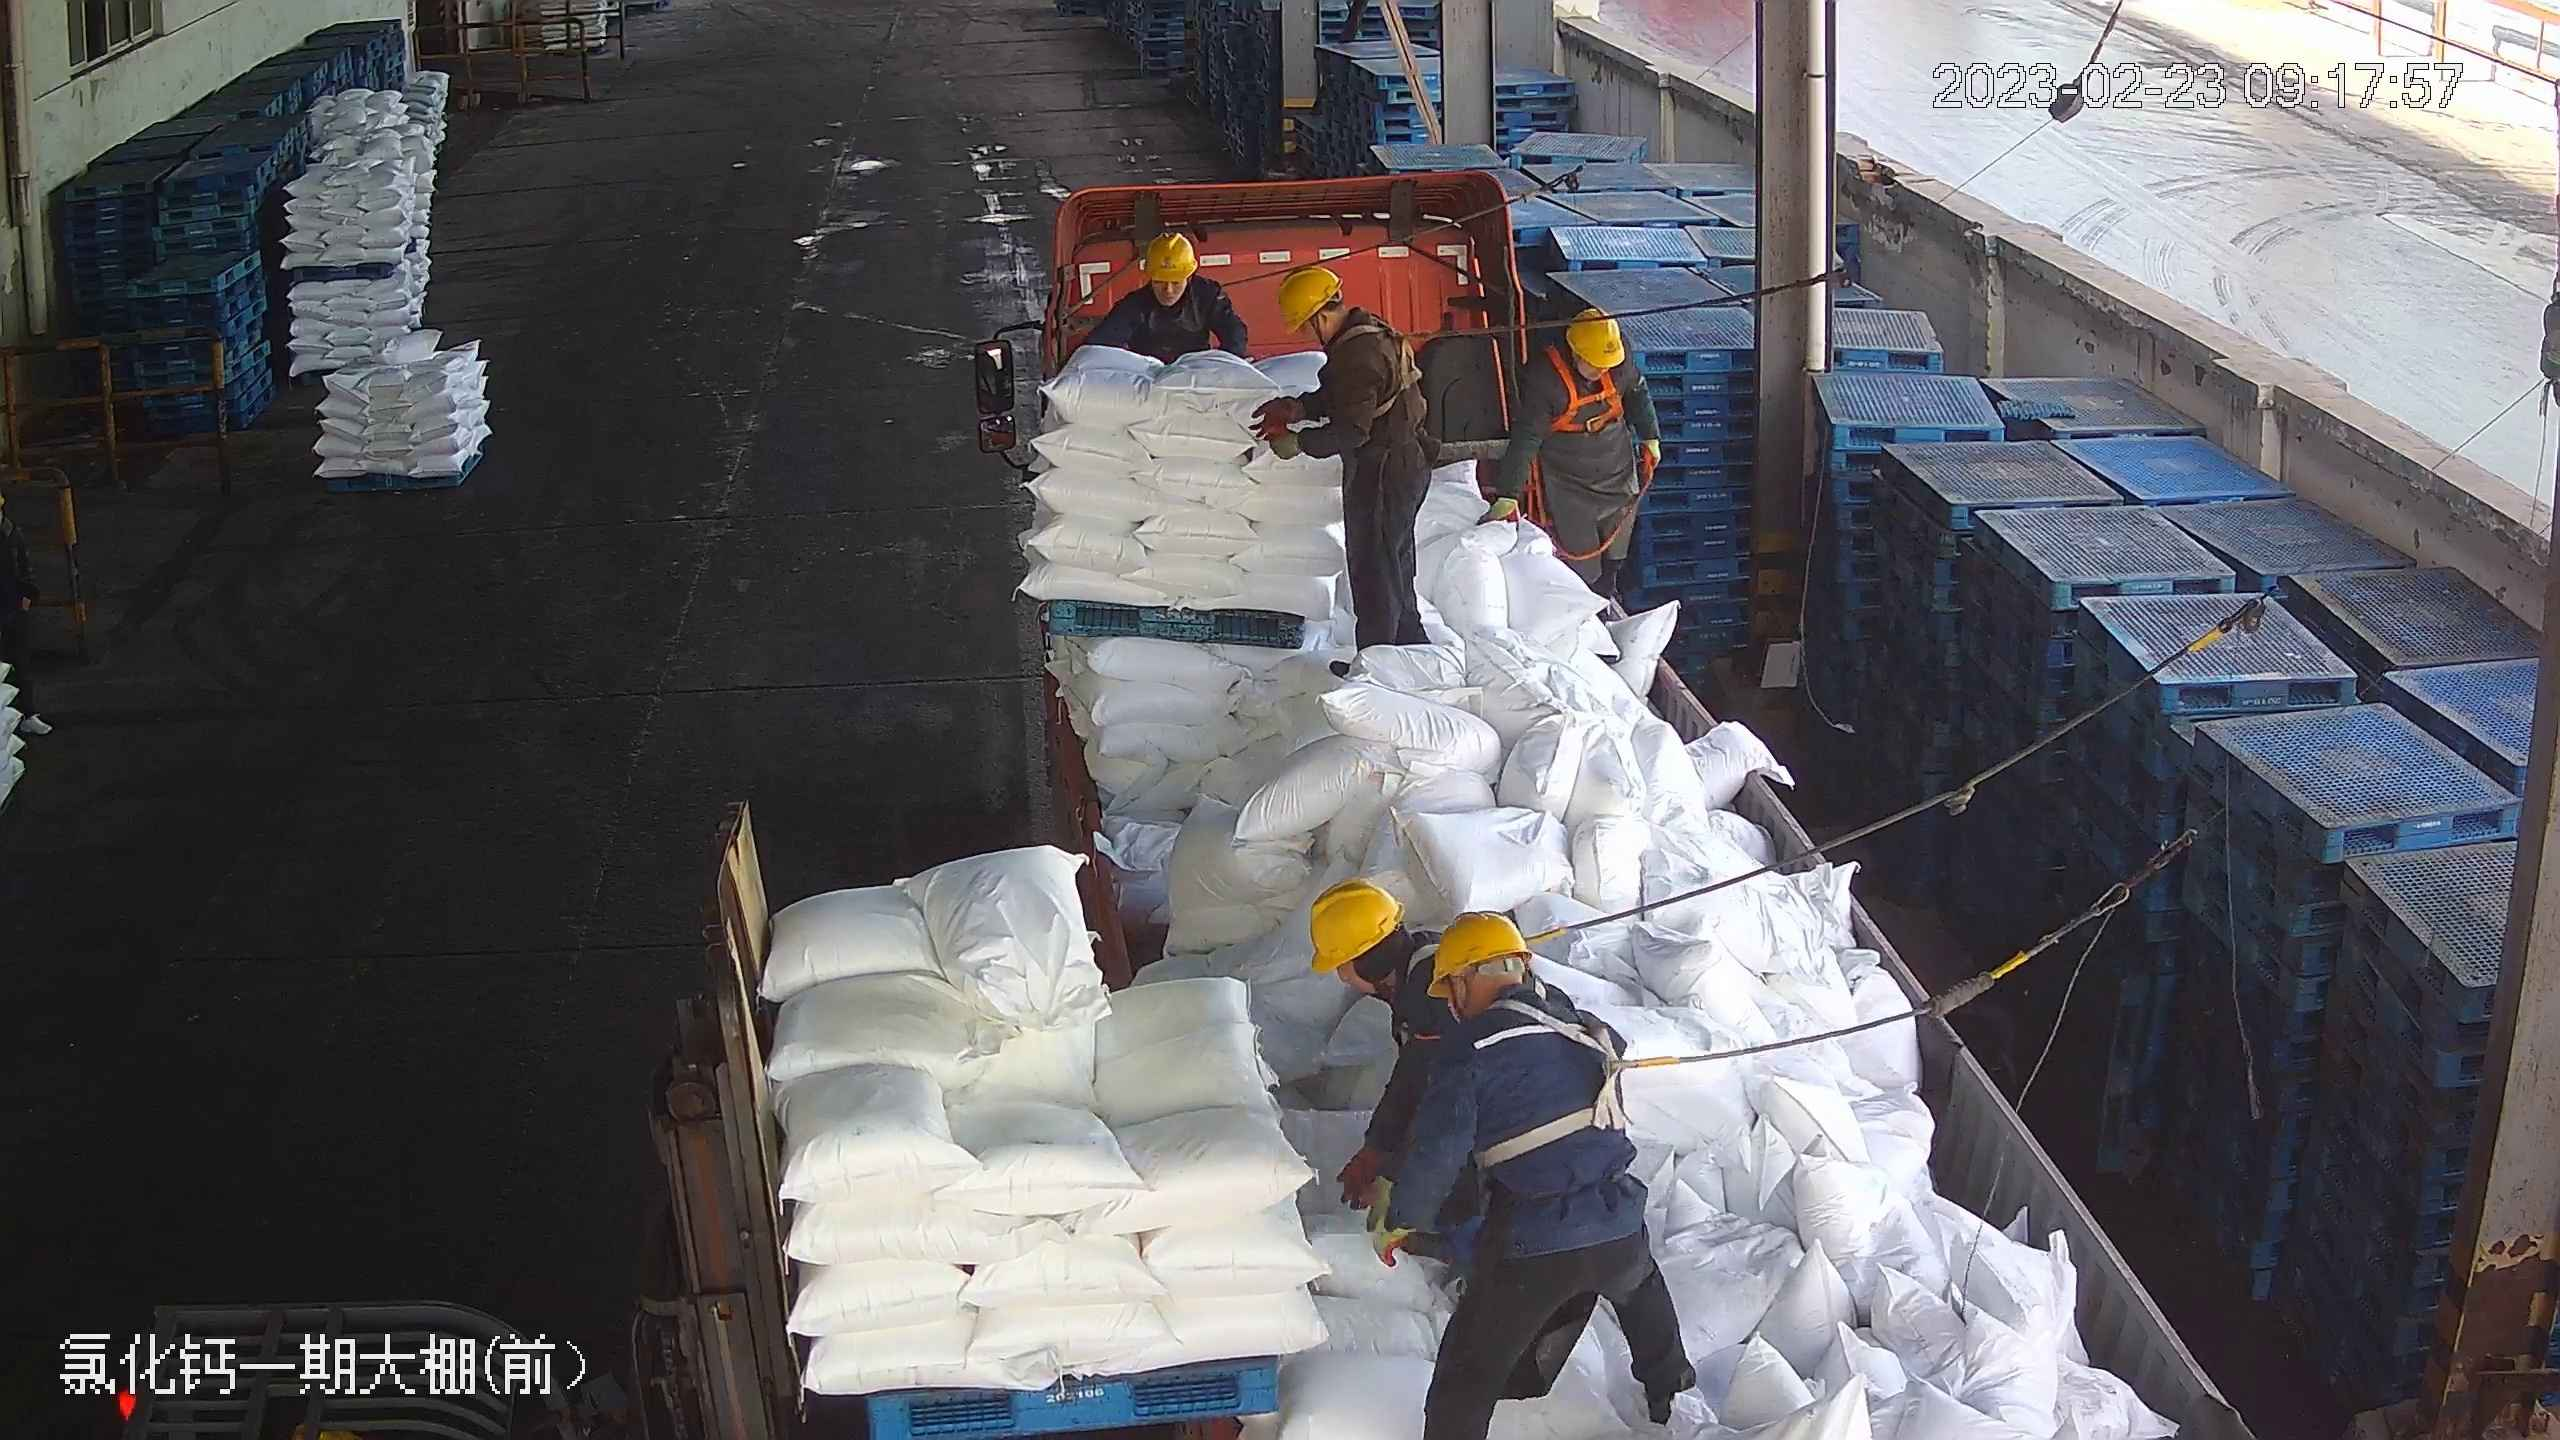belt: (1495, 1004, 1677, 1159), (1336, 323, 1441, 428), (1542, 368, 1628, 439), (1401, 926, 1440, 973)
head: (1424, 912, 1607, 1077), (1298, 878, 1426, 1026), (1269, 265, 1401, 387), (1118, 231, 1223, 328), (1530, 308, 1632, 401)
helmet: (1303, 879, 1403, 970), (1427, 911, 1530, 989), (1271, 261, 1345, 333), (1561, 306, 1628, 367), (1141, 228, 1201, 279)
people: (1384, 910, 1699, 1440), (1256, 262, 1445, 676), (1494, 305, 1658, 609)
truck: (972, 167, 2253, 1430)
